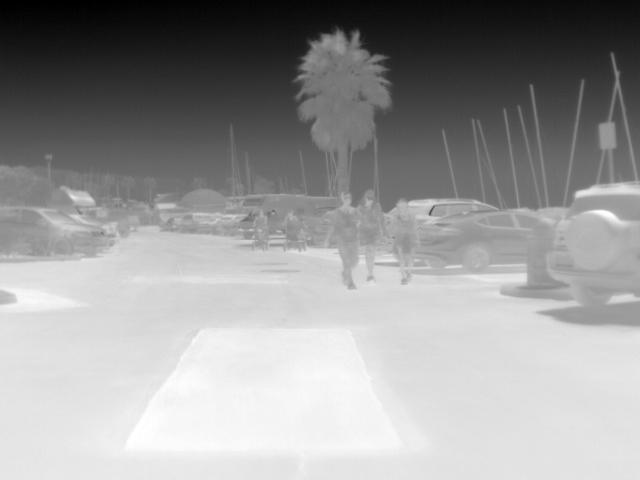car: (546, 178, 639, 310), (418, 207, 543, 272), (0, 204, 107, 259), (52, 188, 117, 236), (405, 196, 495, 228), (70, 212, 117, 245), (178, 211, 220, 233)
person: (325, 191, 360, 289), (356, 189, 389, 283), (389, 197, 420, 285), (252, 209, 270, 231), (283, 210, 300, 228)
